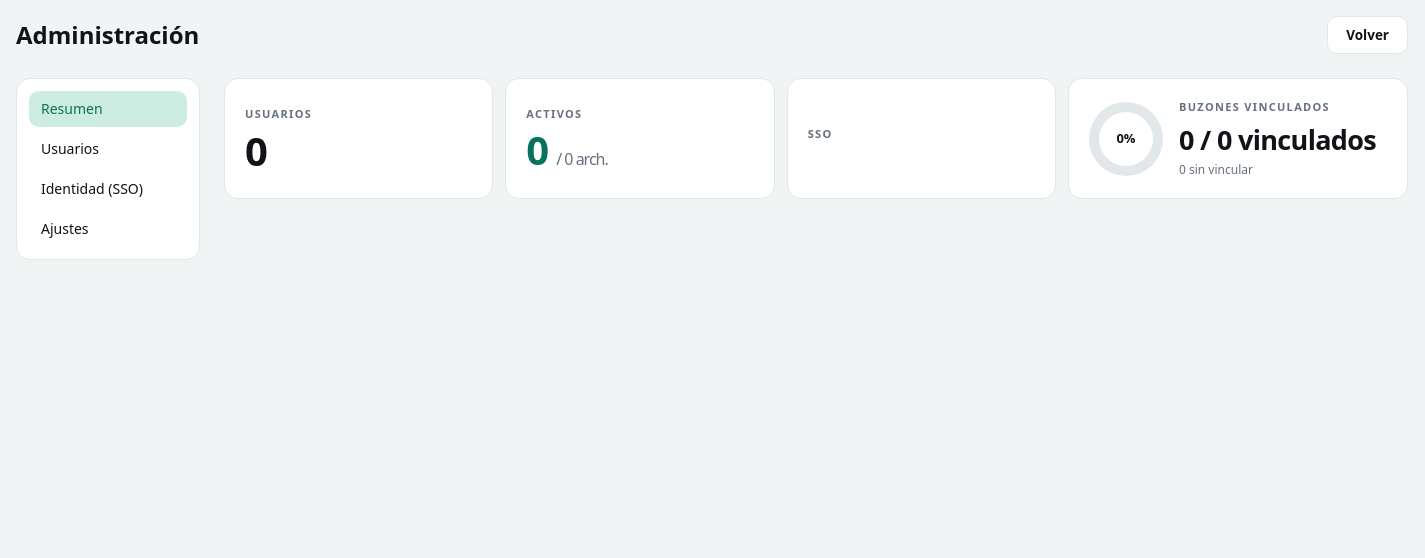
Scenario: the admin console explains WHY an action was refused (GH #46) › names the last-admin block when a demotion is refused
The image size is (1425, 558).
Click the button "Usuarios": (108, 149) [29,131,187,167]
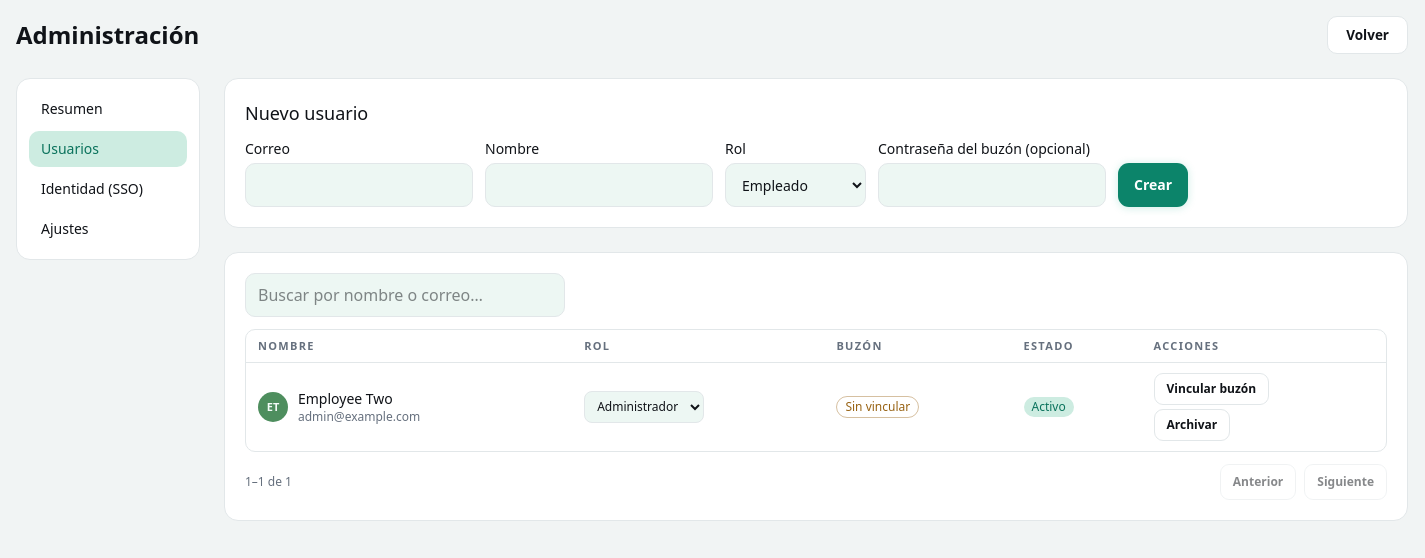
Select "Empleado" in the dropdown named "Rol": (644, 407) [584,391,704,423]
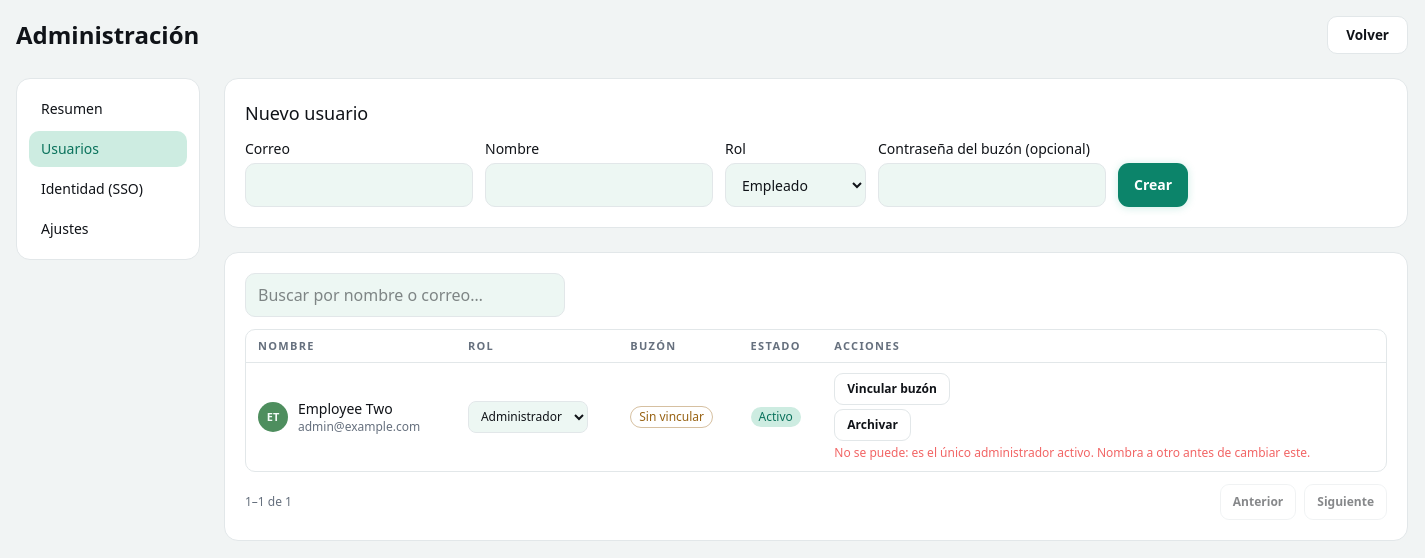
Now the text "No se puede: es el único administrador activo. Nombra a otro antes de cambiar este." is shown, box [834,444,1310,461]
